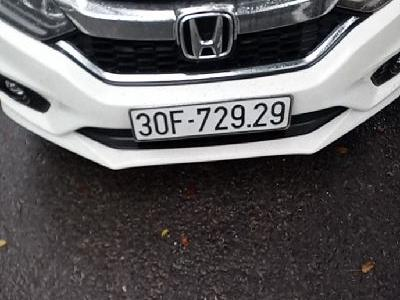lisence: (129, 95, 293, 143)
